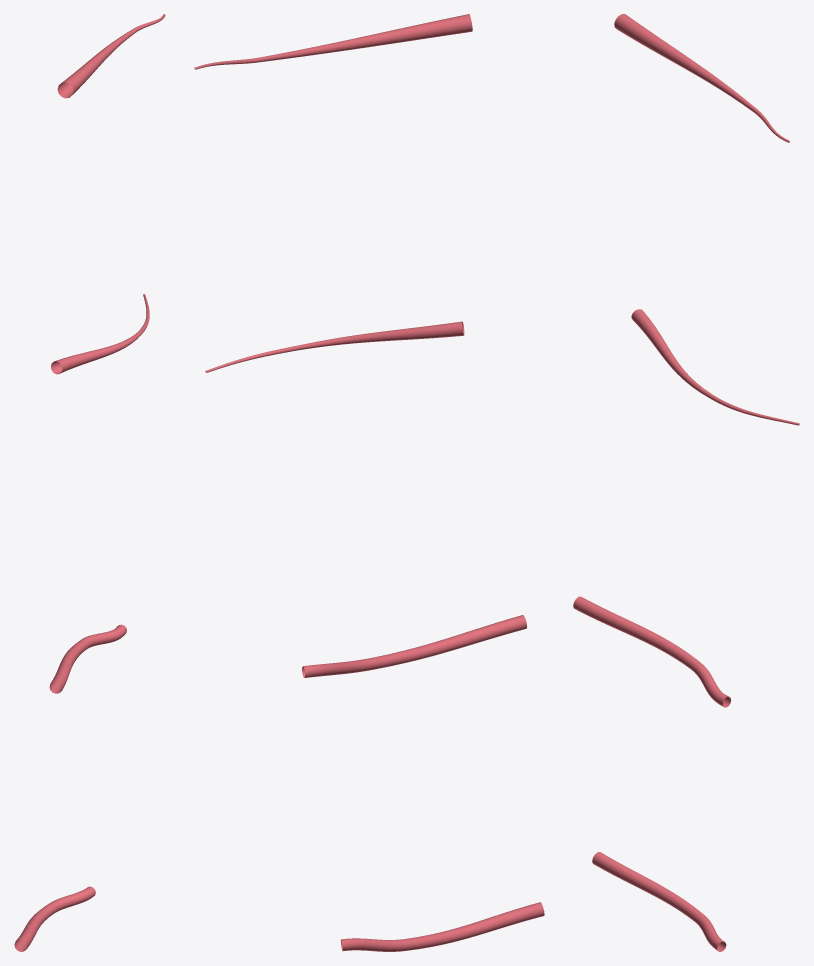
3 renders of one model, left to right at view 1: azimuth 30°, elevation 25°; view 2: azimuth 150°, elevation 25°; view 3: azimuth 270°, elevation 25°, orthographic. The views are drawn at different scales.
Visible parts, largest first — view 1: ZA_1cb96a24824b5124; view 2: ZA_1cb96a24824b5124; view 3: ZA_1cb96a24824b5124.
Boxes of the visible parts, left/top/right/bottom form: ZA_1cb96a24824b5124: left=14, top=14, right=165, bottom=951; ZA_1cb96a24824b5124: left=194, top=14, right=544, bottom=951; ZA_1cb96a24824b5124: left=573, top=14, right=799, bottom=951.
Bounding box in the file's own units: 0.049 × 0.1687 × 0.0384.
